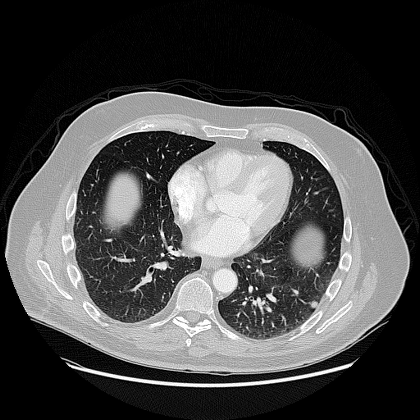nodule: (310, 300, 318, 308)
